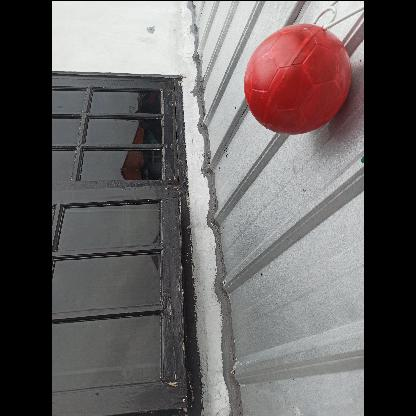red_ball: (238, 19, 352, 132)
